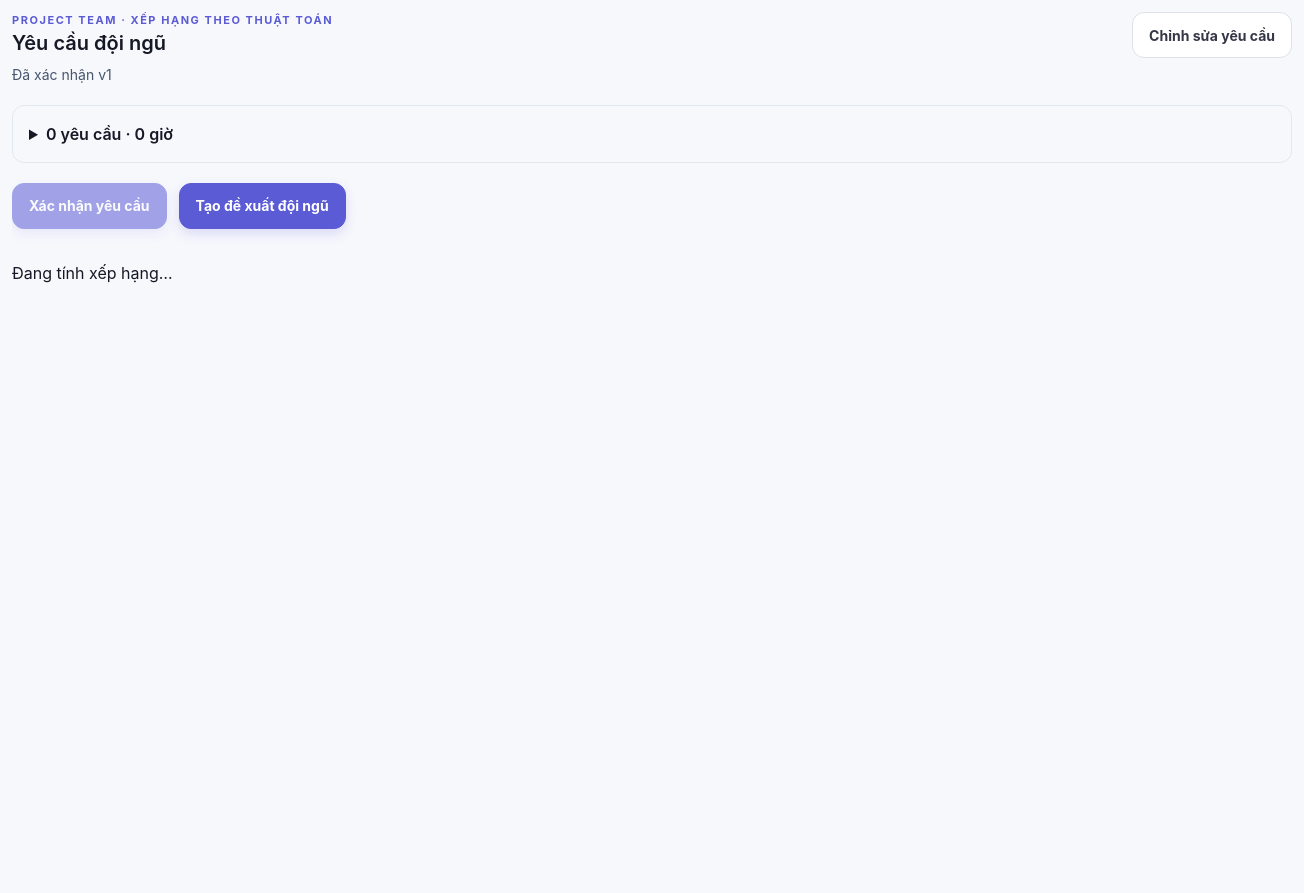
Scenario: TeamPanel › records override feedback even when the new top-ranked choice needs no reason
Click the button "Tạo đề xuất đội ngũ": (262, 206) [179,182,346,228]
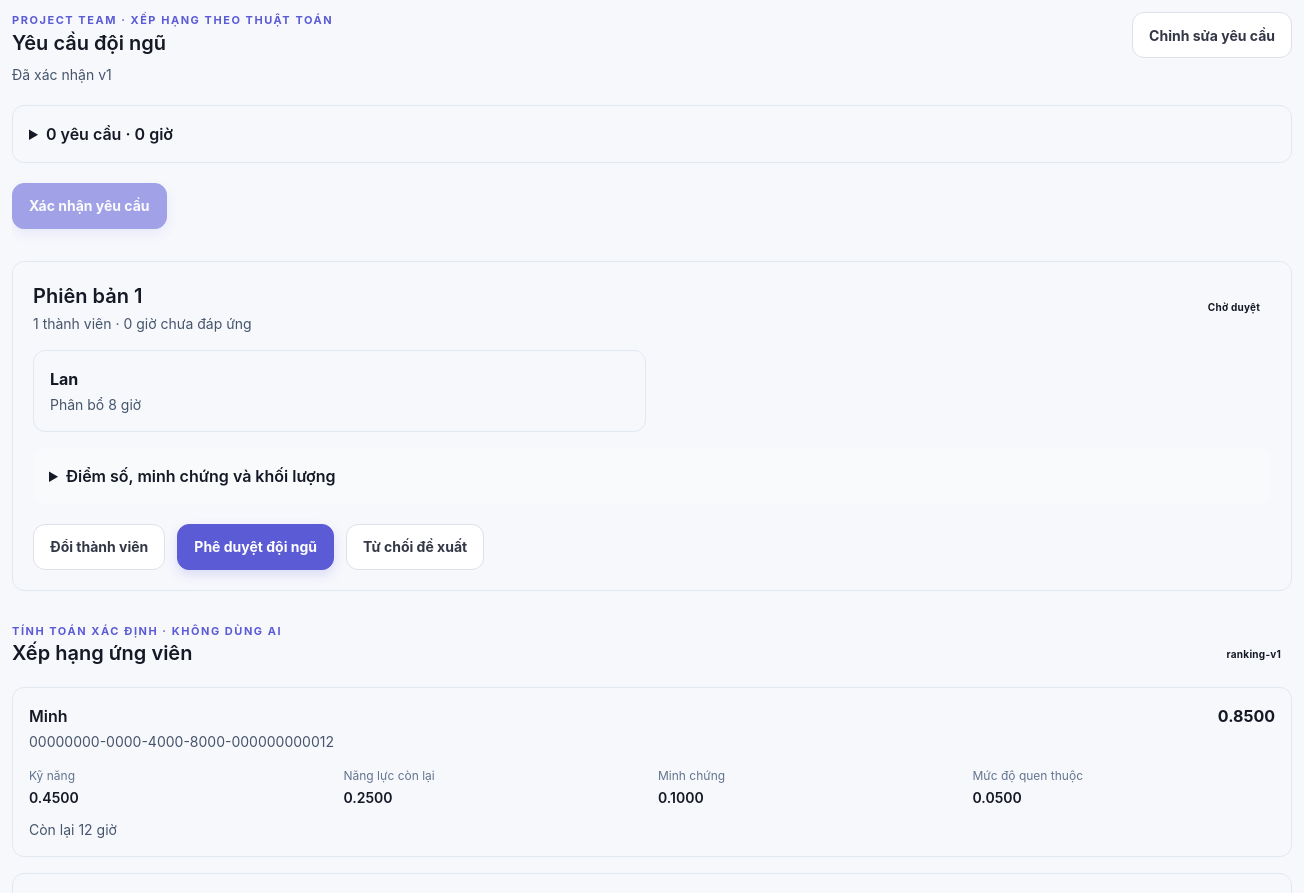
Click the button "Đổi thành viên": (99, 546) [33,524,165,570]
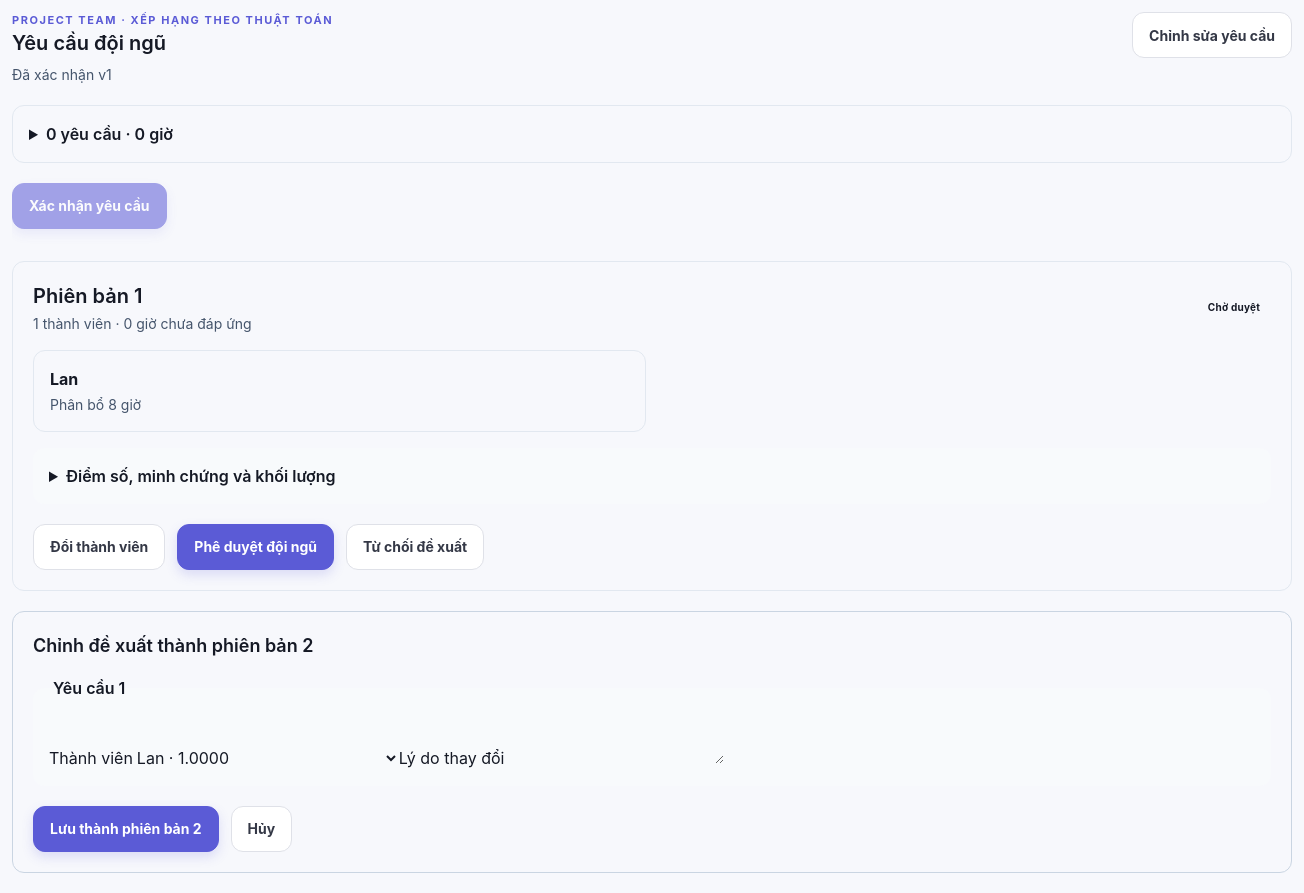
Select "Minh · 0.8500" in the dropdown labelled "Thành viên": (266, 758) [133,747,399,769]
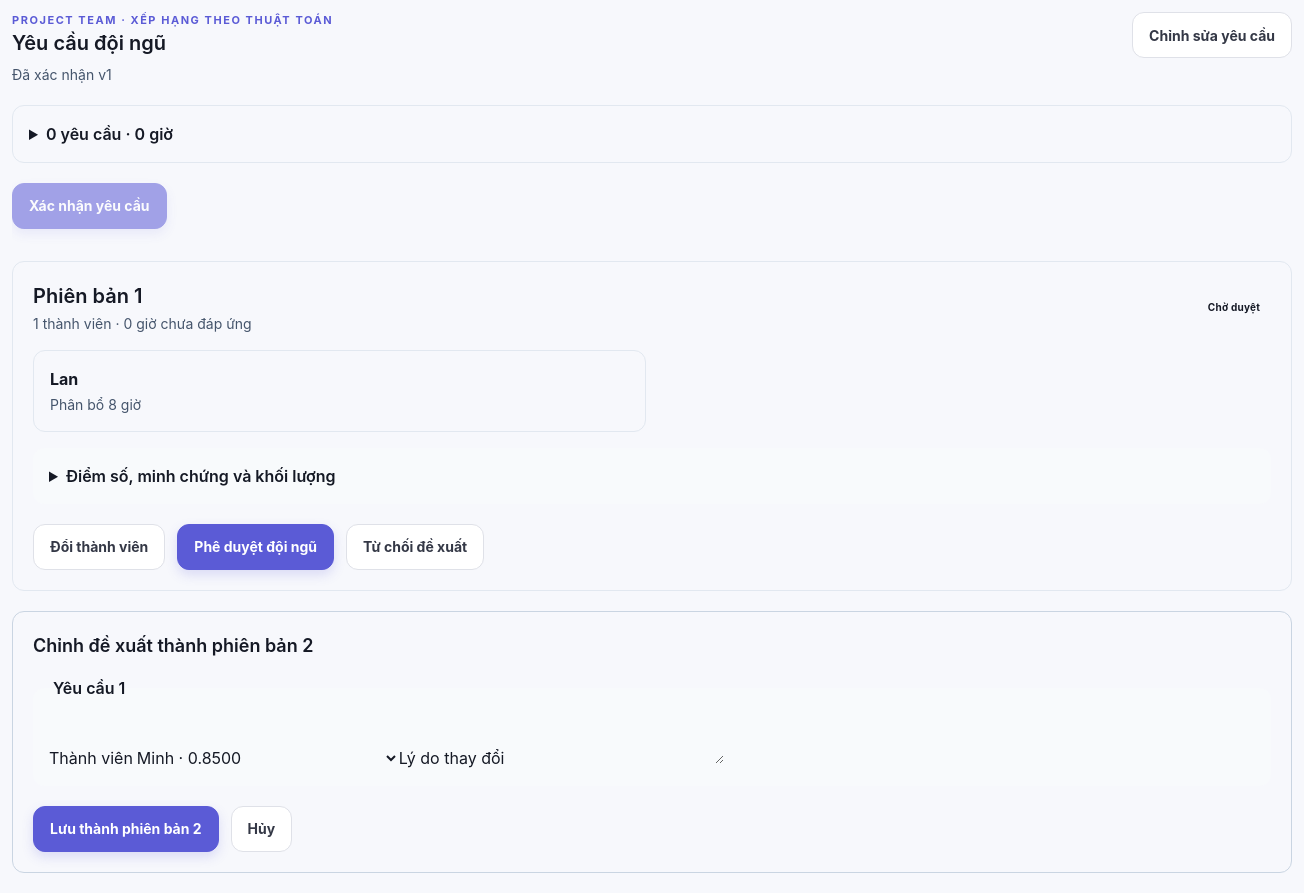
Click the button "Lưu thành phiên bản 2": (126, 829) [33,806,219,852]
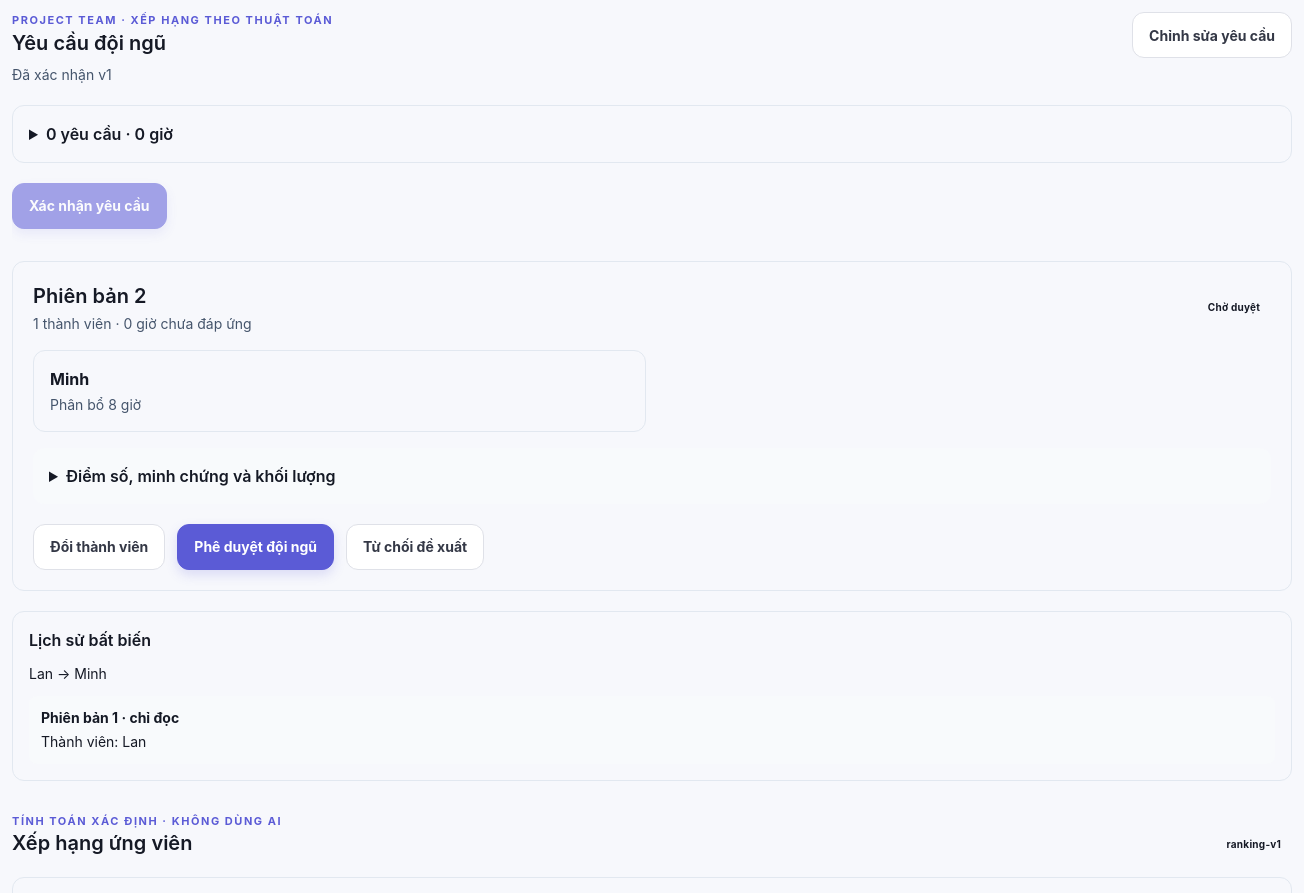
Now the heading "Phiên bản 2" is shown, box [33,284,146,308]
